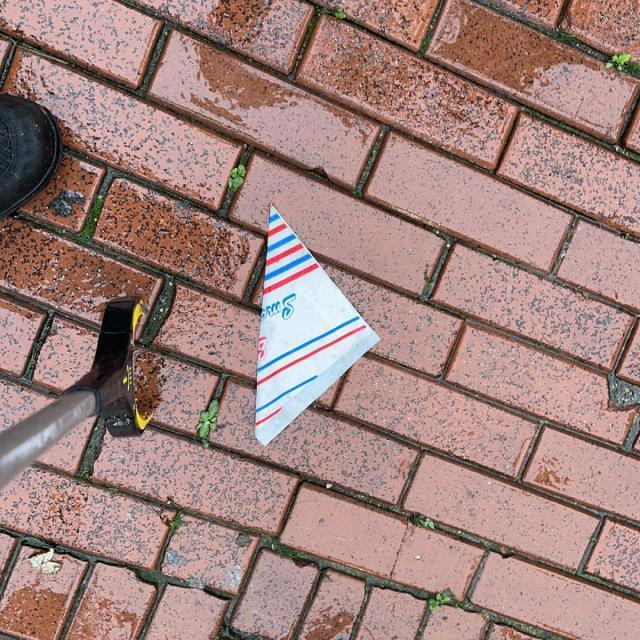Paper: (251, 202, 381, 448)
